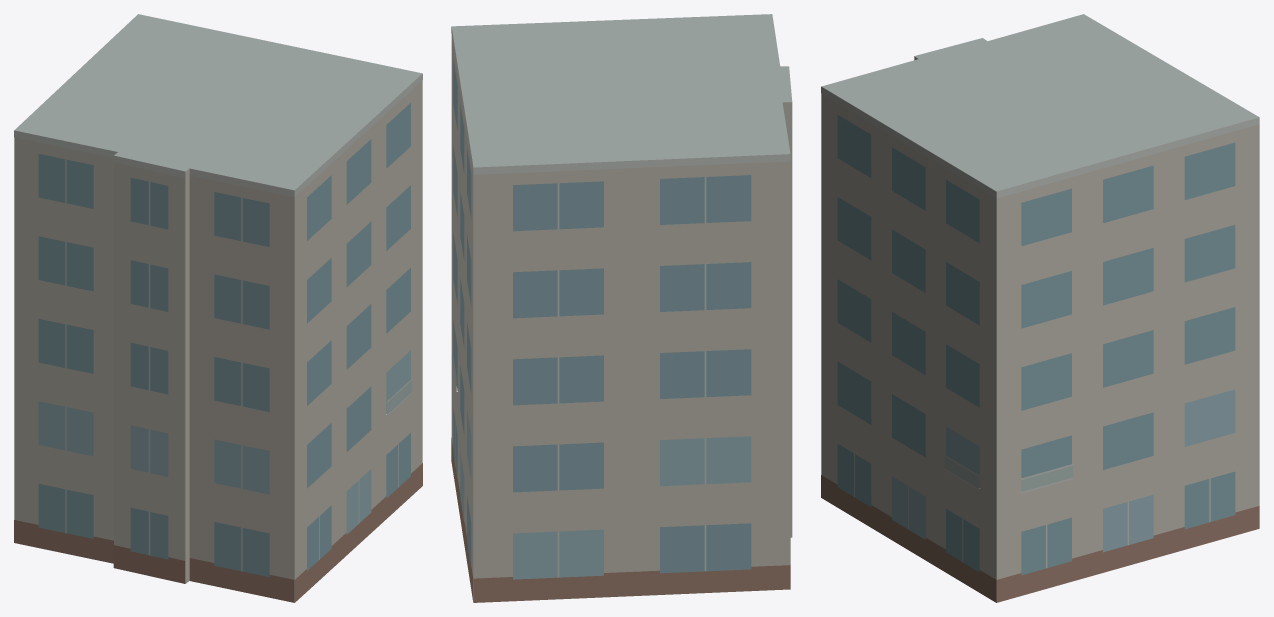
The model's file is survey-upis-32976711.glb.
3 views of the same model, side by side, from view 1: azimuth 30°, elevation 25°; view 2: azimuth 150°, elevation 25°; view 3: azimuth 270°, elevation 25° (orthographic). The views are drawn at different scales.
Parts seen in each view (by area): view 1: survey-upis-32976711.tmp; view 2: survey-upis-32976711.tmp; view 3: survey-upis-32976711.tmp.
Boxes of the visible parts, x1,y1,x2,y2 form: survey-upis-32976711.tmp: [14, 14, 422, 602]; survey-upis-32976711.tmp: [451, 14, 792, 602]; survey-upis-32976711.tmp: [821, 14, 1259, 602].
Bounding box in the file's own units: 13.53 × 14.6 × 14.11.
